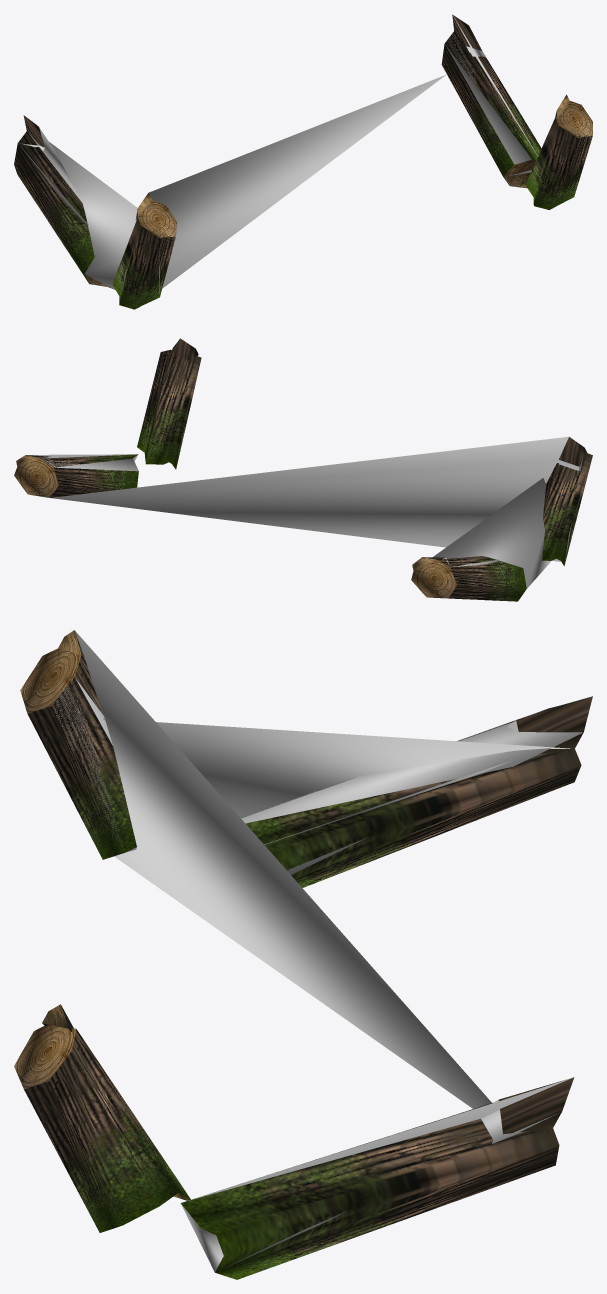
The model's file is stst33.dae.
3 views of the same model, one above another, from view 1: azimuth 30°, elevation 25°; view 2: azimuth 150°, elevation 25°; view 3: azimuth 270°, elevation 25° (orthographic). The views are drawn at different scales.
Visible parts, largest first — view 1: door, cage; view 2: door, cage; view 3: cage, door.
Boxes of the visible parts, box(x1,y1,x2,y2) form: door: box(19, 18, 537, 299); cage: box(14, 14, 592, 309); door: box(29, 436, 584, 588); cage: box(14, 338, 592, 601); cage: box(14, 630, 592, 1279); door: box(53, 631, 583, 1272).
Bounding box in the file's own units: 1.42 × 0.816 × 0.4012.
2 materials, 1 textured.
